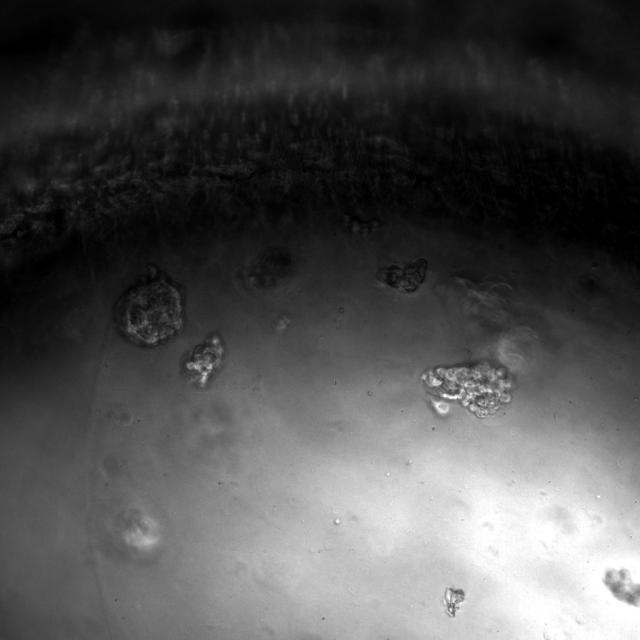organoid: (114, 263, 185, 346), (421, 363, 511, 418), (181, 332, 226, 389), (247, 247, 292, 288), (377, 257, 428, 292), (603, 567, 639, 606)
